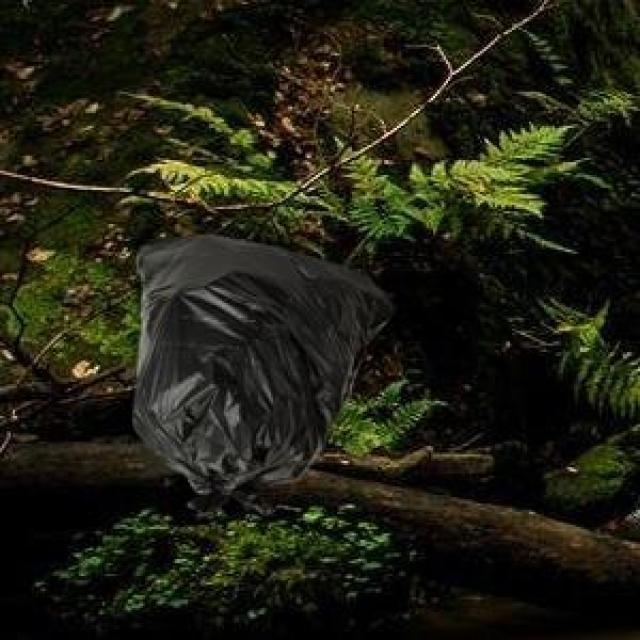miscellaneous trash: (130, 233, 390, 514)
